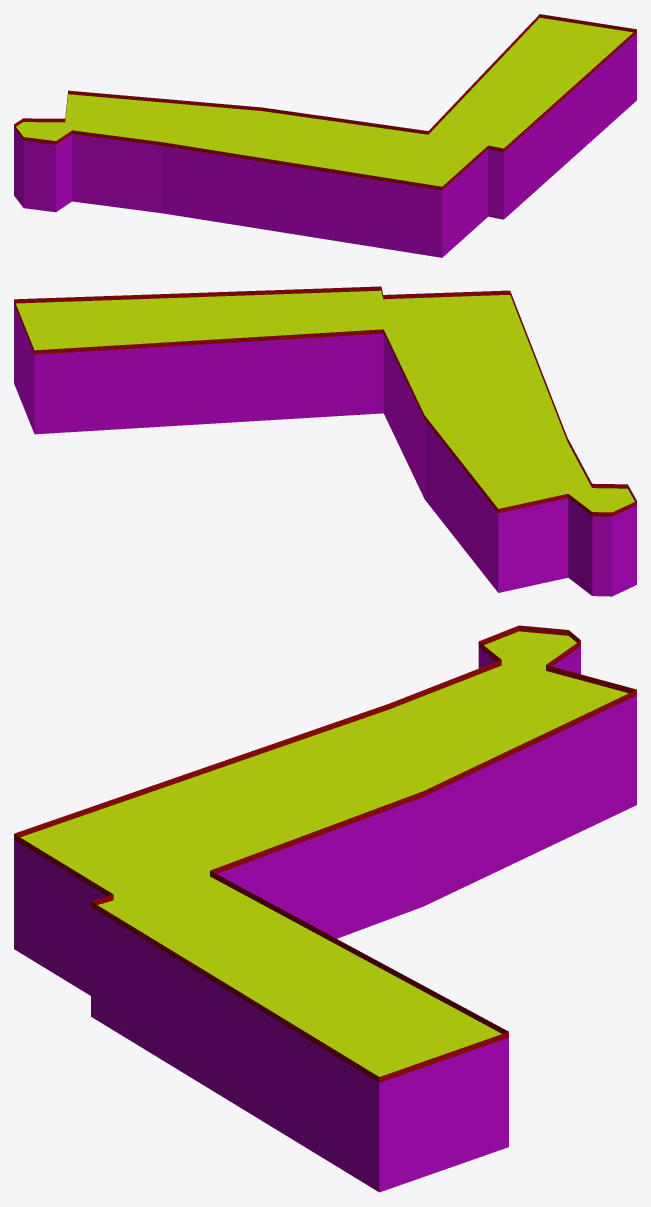
Rendered from suc_24.glb.
3 renders of one model, top to bottom at view 1: azimuth 30°, elevation 25°; view 2: azimuth 150°, elevation 25°; view 3: azimuth 270°, elevation 25°, orthographic. The views are drawn at different scales.
Visible parts, largest first — view 1: suc_24; view 2: suc_24; view 3: suc_24.
Part boxes in pixels (box(x1,y1,x2,y2)): suc_24: box(14, 14, 636, 257); suc_24: box(14, 286, 636, 596); suc_24: box(14, 625, 636, 1192).
Bounding box in the file's own units: 57.6 × 6.87 × 33.58.
